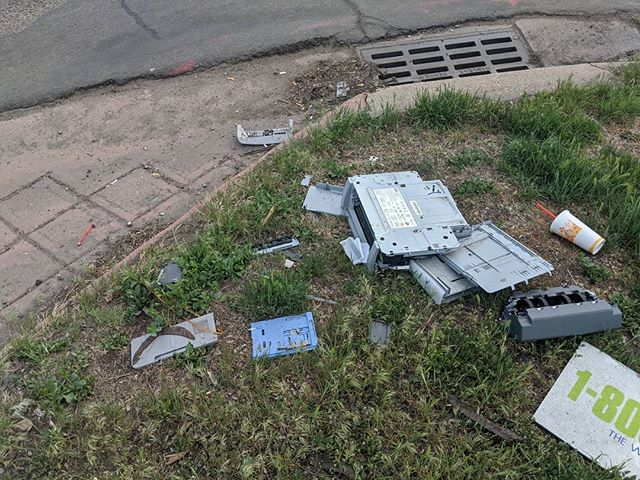trash: (40, 52, 640, 480)
